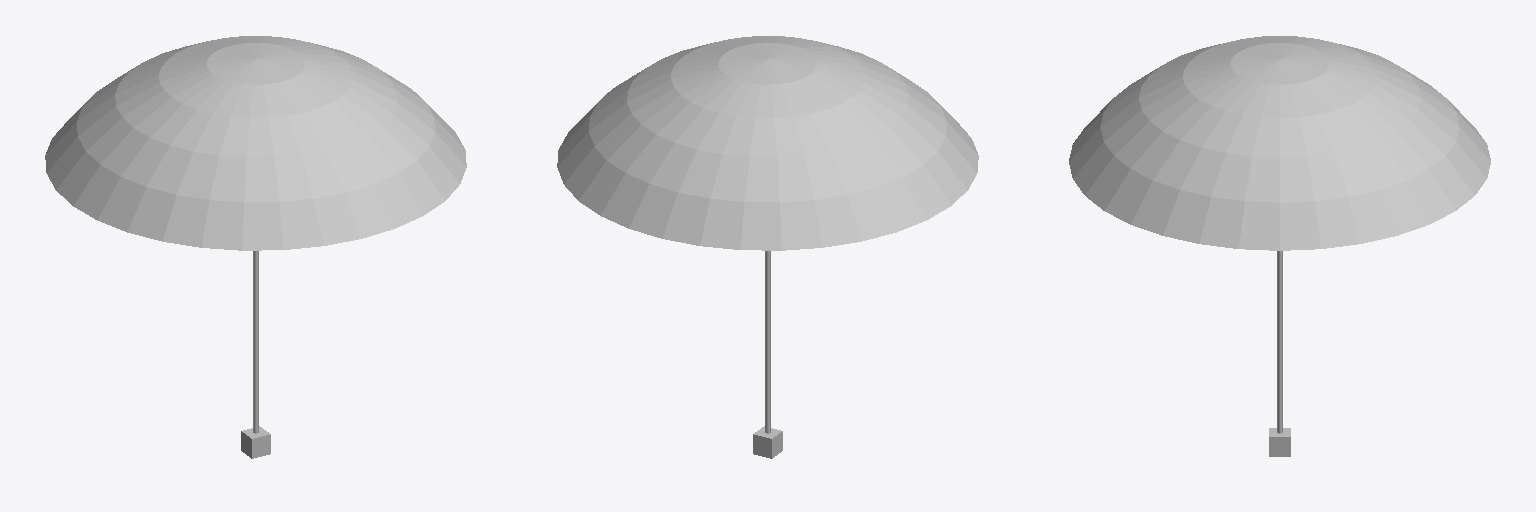
File: omb_o--.obj
3 views of the same model, side by side, from view 1: azimuth 30°, elevation 25°; view 2: azimuth 150°, elevation 25°; view 3: azimuth 270°, elevation 25° (orthographic).
Parts seen in each view (by area): view 1: Sphere_Sphere.001; view 2: Sphere_Sphere.001; view 3: Sphere_Sphere.001.
Boxes of the visible parts, x1=… form: Sphere_Sphere.001: x1=45, y1=36, x2=466, y2=458; Sphere_Sphere.001: x1=557, y1=36, x2=978, y2=458; Sphere_Sphere.001: x1=1069, y1=36, x2=1490, y2=456.
Bounding box in the file's own units: 3.79 × 3.89 × 3.79.